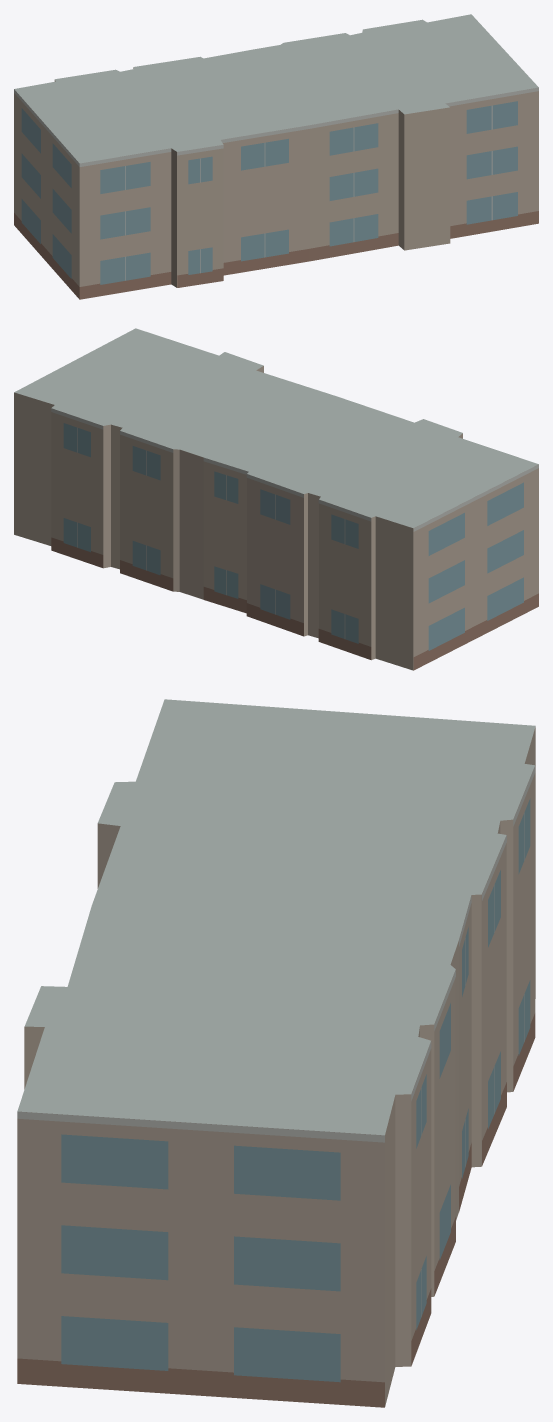
The model's file is survey-upis-32676486.glb.
3 views of the same model, one above another, from view 1: azimuth 30°, elevation 25°; view 2: azimuth 150°, elevation 25°; view 3: azimuth 270°, elevation 25° (orthographic). The views are drawn at different scales.
Parts seen in each view (by area): view 1: survey-upis-32676486.tmp; view 2: survey-upis-32676486.tmp; view 3: survey-upis-32676486.tmp.
Boxes of the visible parts, x1,y1,x2,y2 form: survey-upis-32676486.tmp: [14, 14, 538, 299]; survey-upis-32676486.tmp: [14, 328, 538, 670]; survey-upis-32676486.tmp: [17, 699, 535, 1407].
Bounding box in the file's own units: 31.44 × 9.15 × 15.79.
